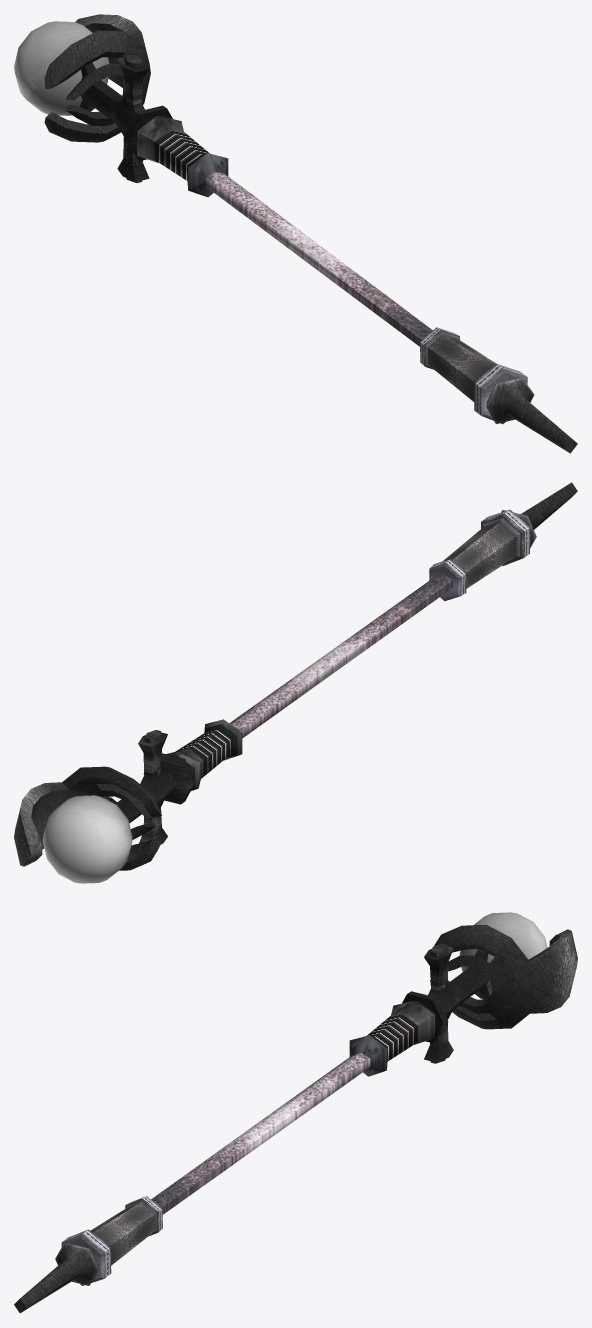
Rendered from wand_gyokuzui_gyokuzui1.glb.
The picture shows the model from 3 angles, top to bottom: view 1: azimuth 30°, elevation 25°; view 2: azimuth 150°, elevation 25°; view 3: azimuth 330°, elevation 25°; orthographic projection. The views are drawn at different scales.
Bounding box in the file's own units: 0.2366 × 0.2201 × 1.83.
Materials: 1 (1 with a texture image).
